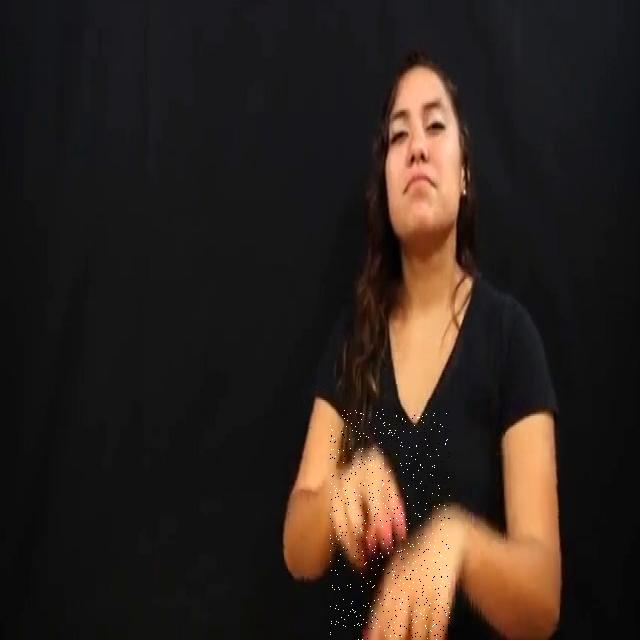salt: (330, 409, 450, 640)
